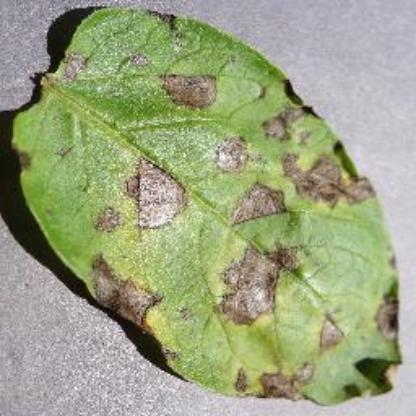Early-Blight: (9, 6, 408, 406)
